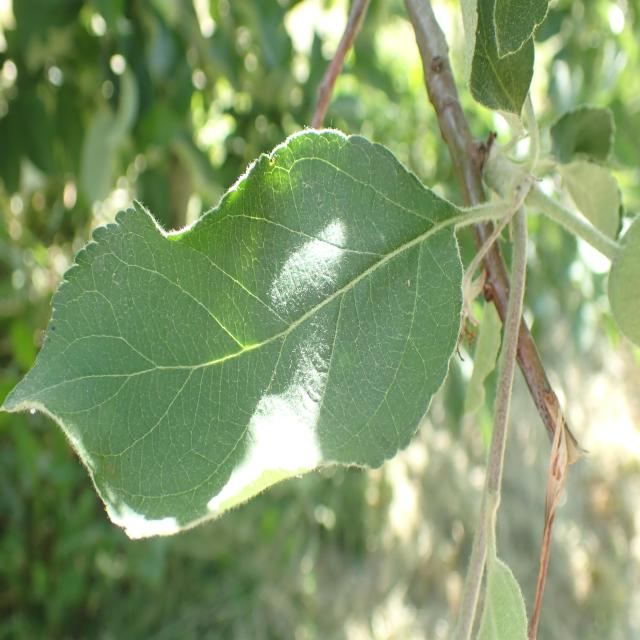healthy: (1, 127, 465, 541), (460, 0, 549, 126), (606, 216, 640, 348)
